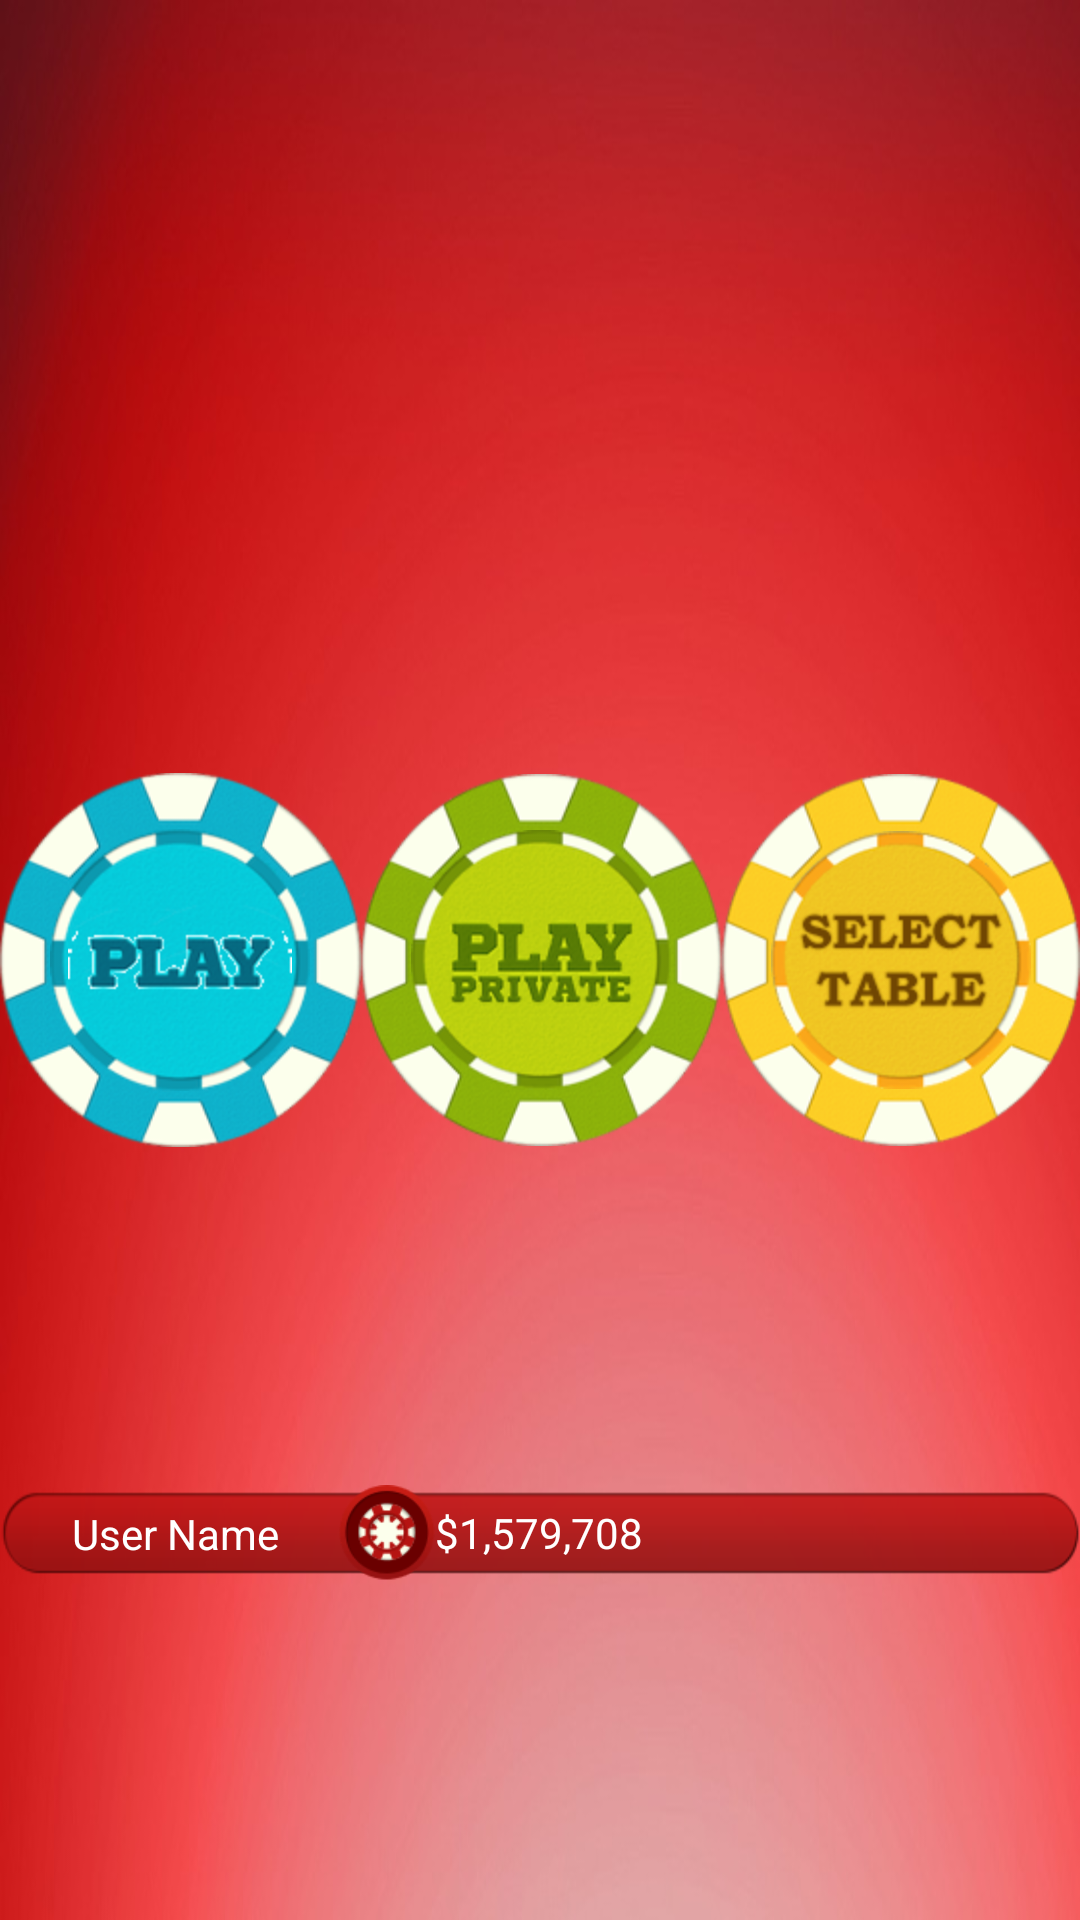

Point at icon controls on the screen. Image size 1080 × 1920, points as (x=x, y=y).
chips: (x=387, y=1533)
